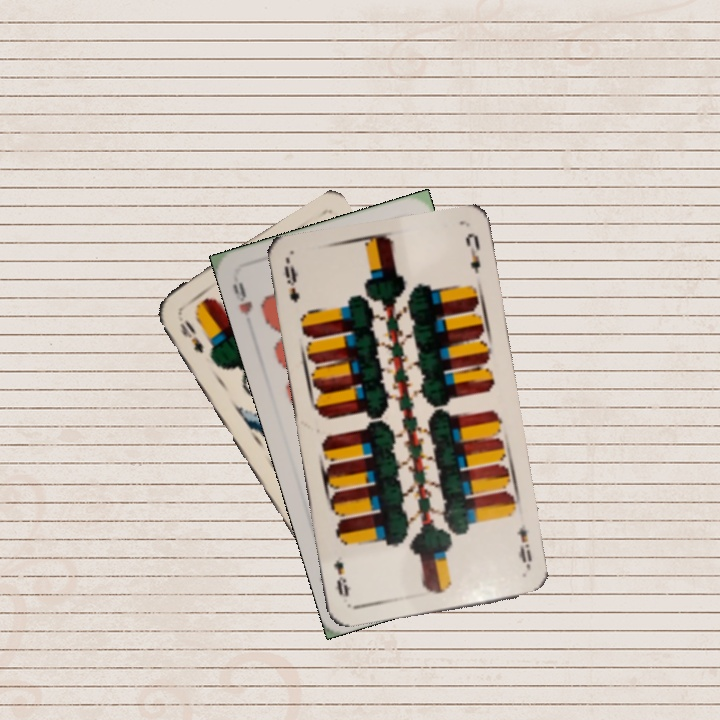E9: (512, 520, 535, 572), (280, 258, 302, 305)
EO: (175, 315, 206, 356)
H9: (228, 278, 255, 318)
